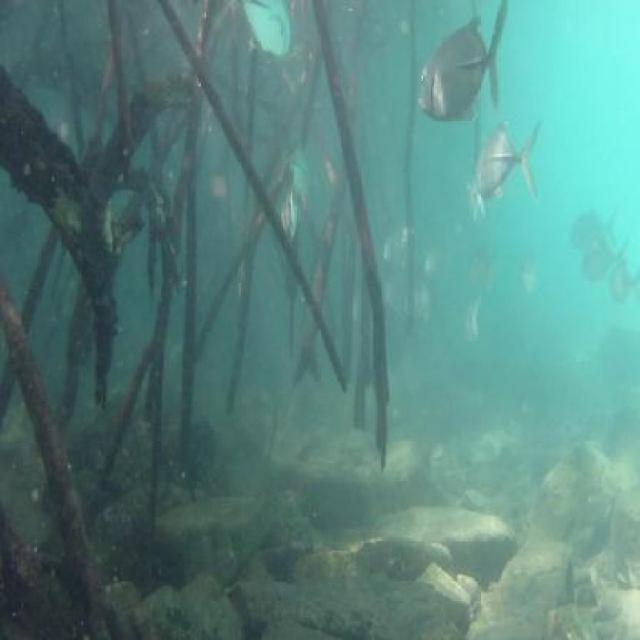Caranx_sexfasciatus_juvenile: (412, 0, 508, 128), (469, 117, 545, 217), (238, 0, 296, 80), (562, 202, 621, 258), (376, 205, 418, 278), (578, 228, 631, 282), (401, 270, 437, 348), (283, 129, 314, 216), (373, 265, 409, 333), (462, 230, 496, 299), (604, 249, 640, 313), (419, 232, 446, 298), (458, 289, 484, 357), (514, 235, 538, 308), (458, 181, 491, 234), (276, 182, 301, 250)
